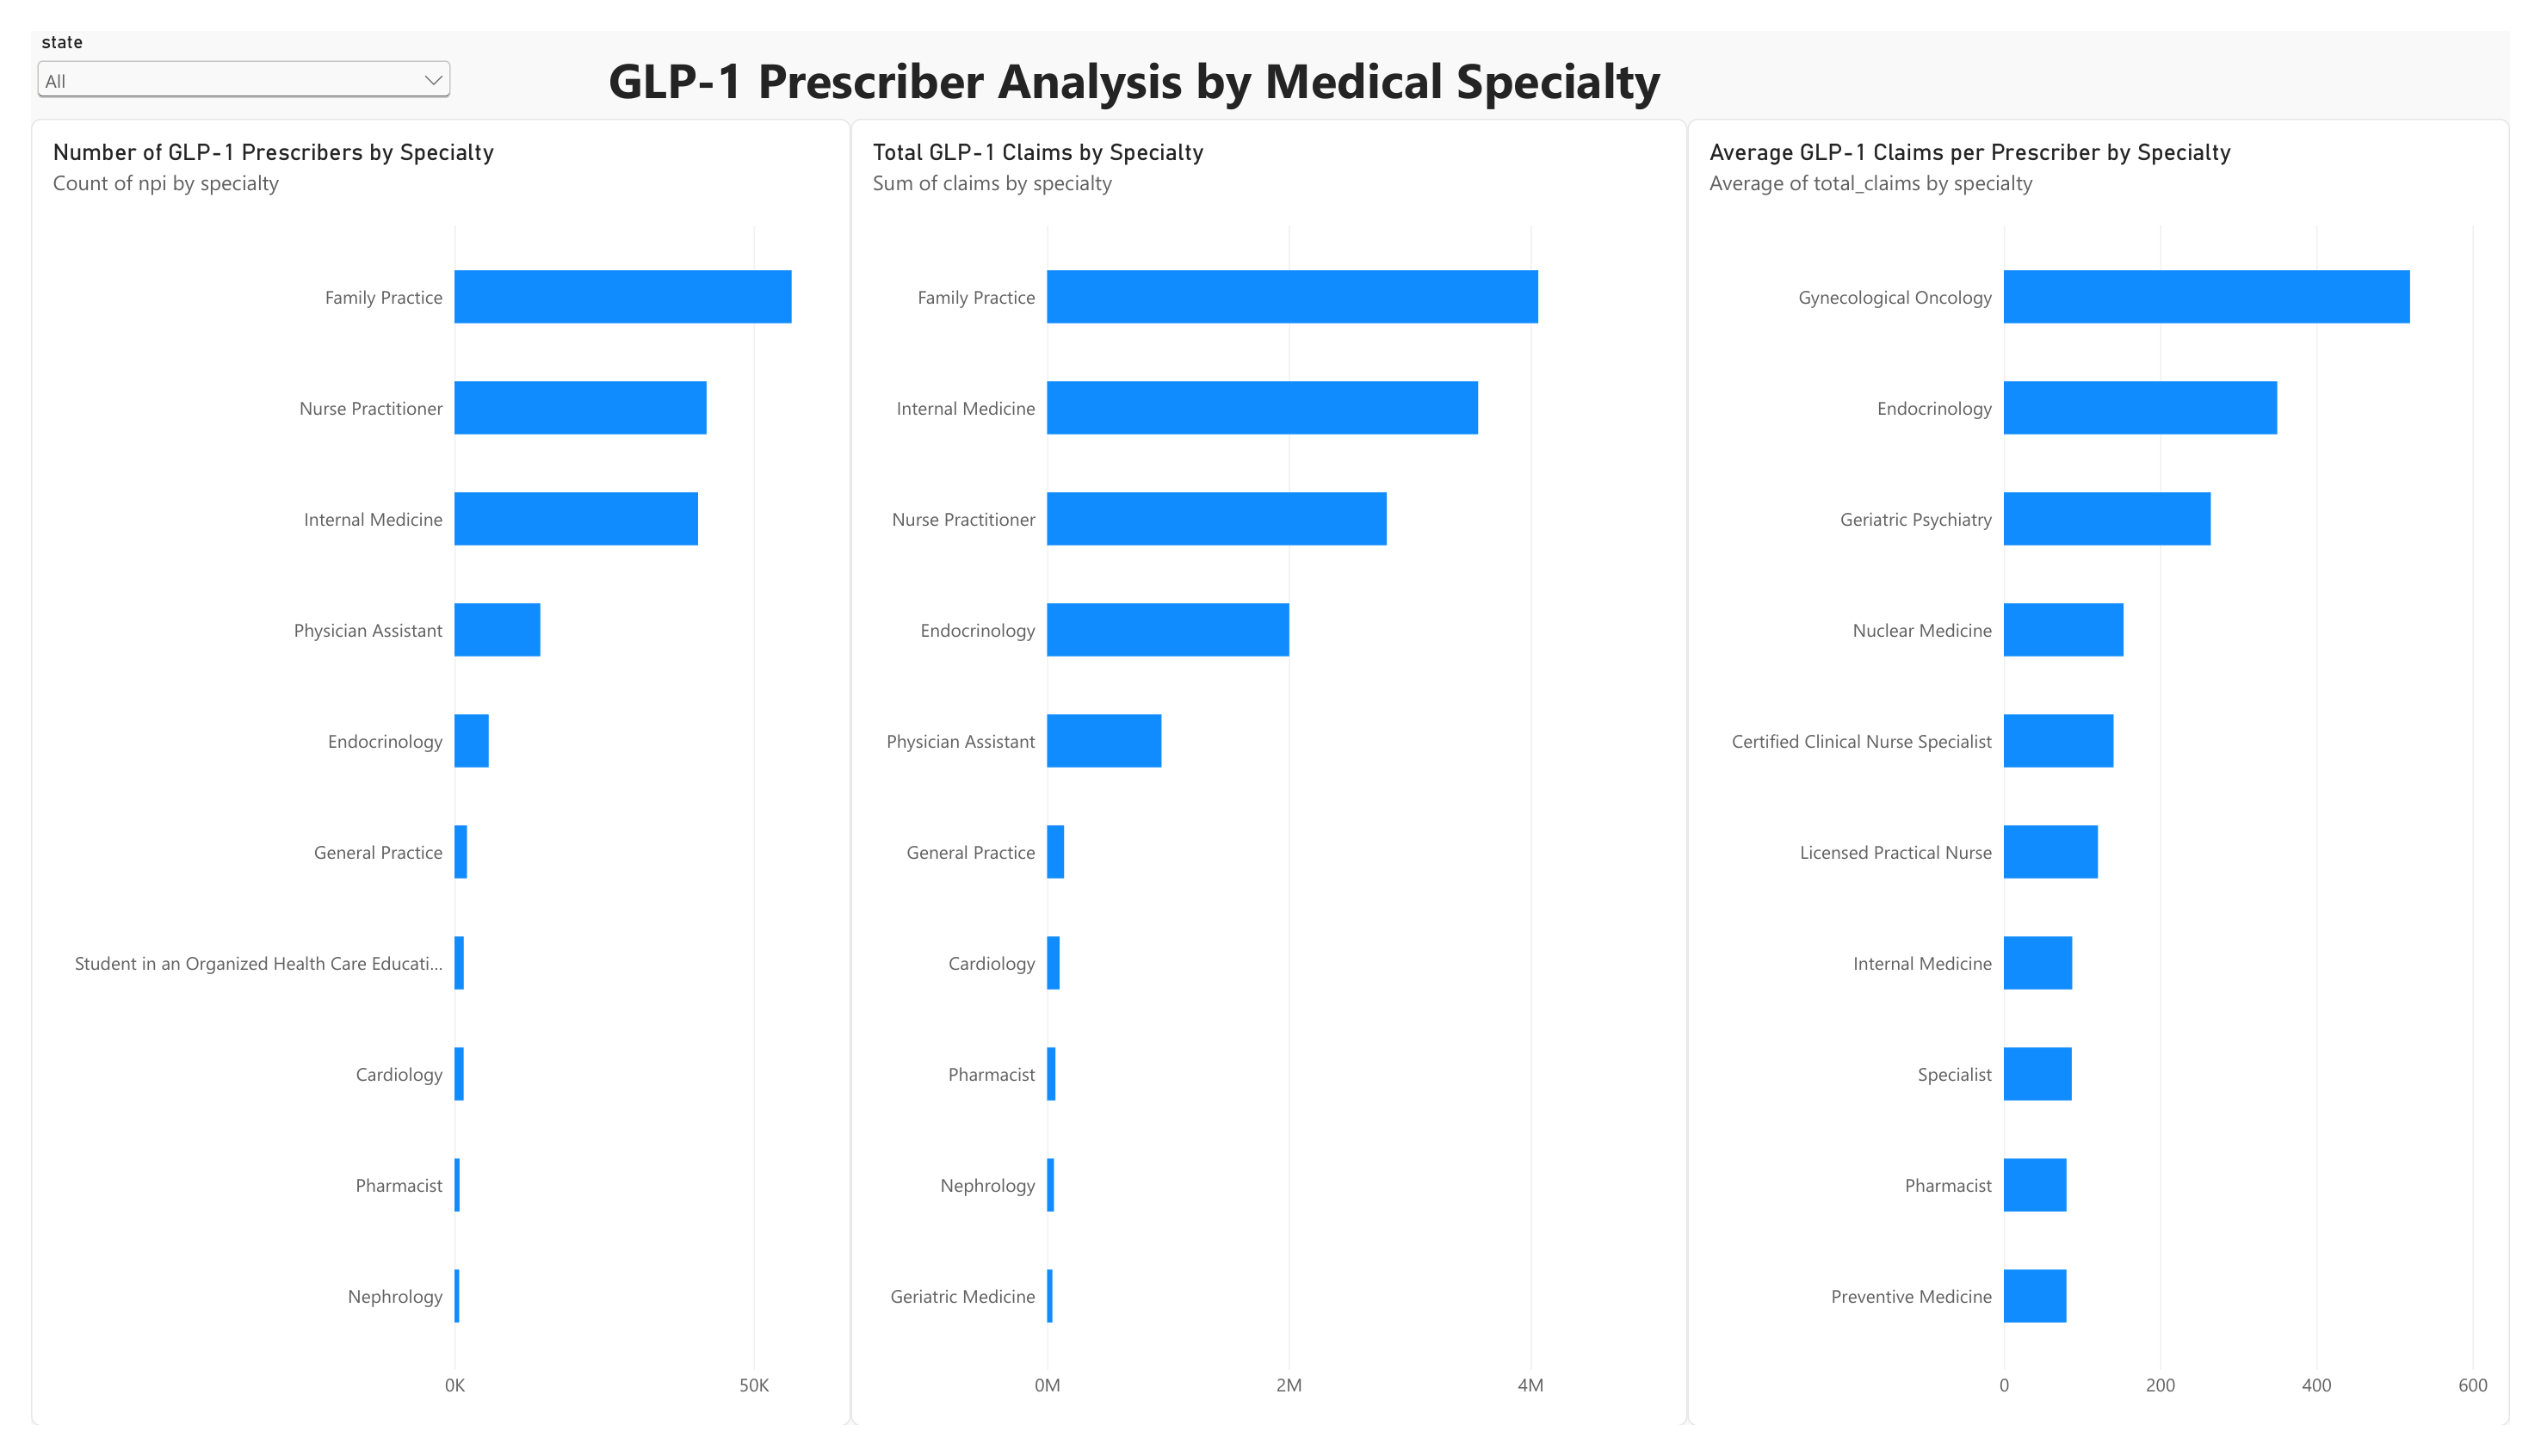

The page's visual inventory and layout, read from the dashboard file:
{"tool":"powerbi","page":{"name":"Specialty Analysis","canvas":[1920,1080],"ordinal":1},"visuals":[{"type":"clusteredBarChart","title":"Number of GLP-1 Prescribers by  Specialty","fields":{"Category":["glp1_prescribers.specialty"],"Y":["Count(glp1_prescribers.npi)"]},"box":[0,68,635,1012.9],"z":0},{"type":"clusteredBarChart","title":"Total GLP-1 Claims by Specialty","fields":{"Category":["glp1_prescriber_molecule.specialty"],"Y":["Sum(glp1_prescriber_molecule.claims)"]},"box":[635,68,647.6,1012.9],"z":1000},{"type":"clusteredBarChart","title":"Average GLP-1 Claims per Prescriber by Specialty","fields":{"Category":["glp1_prescribers.specialty"],"Y":["Avg(glp1_prescribers.total_claims)"]},"box":[1282.5,68,637.5,1012.9],"z":2000},{"type":"slicer","fields":{"Values":["glp1_prescribers.state"]},"box":[0,0,330.1,68],"z":3000},{"type":"textbox","box":[447.1,0,1473.1,69.1],"z":4000}]}

Visuals, with their boxes in screenshot pixels (x1, y1, x2, y2), scaled from the page's 1920x1080 canvas onto the 2541x1456 screenshot:
"Number of GLP-1 Prescribers by  Specialty" clusteredBarChart: (x1=0, y1=92, x2=840, y2=1455)
"Total GLP-1 Claims by Specialty" clusteredBarChart: (x1=840, y1=92, x2=1697, y2=1455)
"Average GLP-1 Claims per Prescriber by Specialty" clusteredBarChart: (x1=1697, y1=92, x2=2540, y2=1455)
slicer - glp1_prescribers.state: (x1=0, y1=0, x2=437, y2=92)
textbox: (x1=591, y1=0, x2=2540, y2=93)
